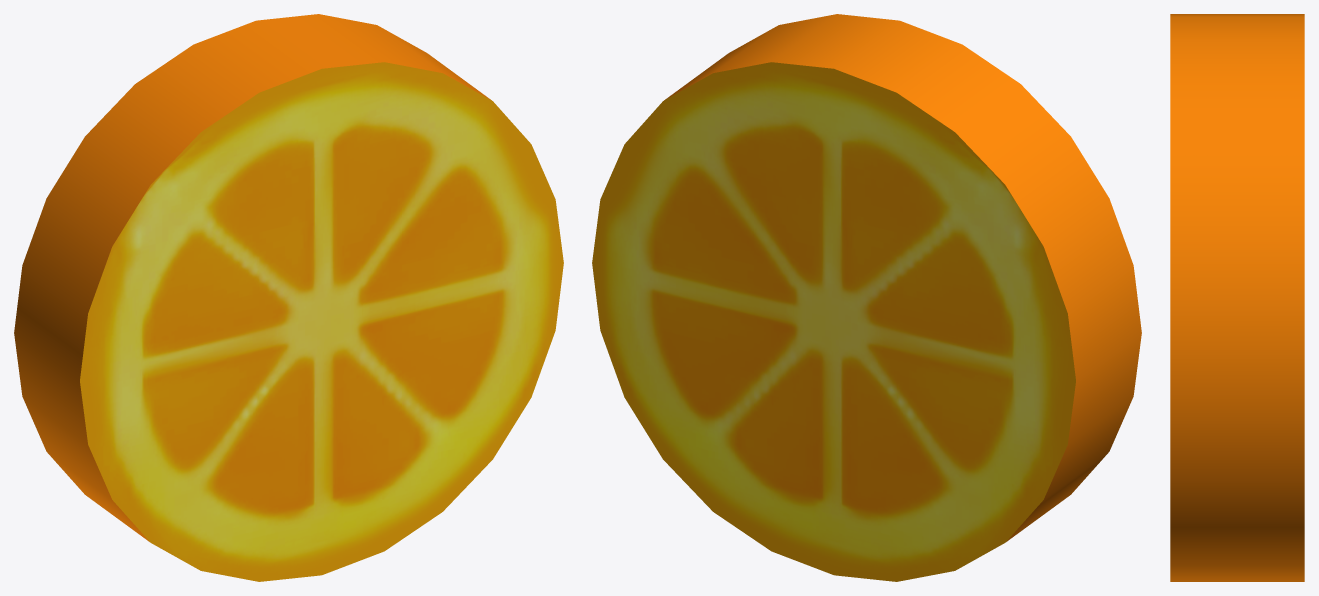
Rendered from chengbi.fbx.
The picture shows the model from 3 angles, left to right: view 1: azimuth 30°, elevation 25°; view 2: azimuth 150°, elevation 25°; view 3: azimuth 270°, elevation 25°; orthographic projection. The views are drawn at different scales.
Visible parts, largest first — view 1: chengbi; view 2: chengbi; view 3: chengbi.
Part boxes in pixels (x1=…): chengbi: x1=14, y1=14, x2=563, y2=581; chengbi: x1=592, y1=14, x2=1141, y2=581; chengbi: x1=1170, y1=14, x2=1304, y2=581.
Bounding box in the file's own units: 192 × 192 × 45.23.
Materials: 1 (1 with a texture image).
